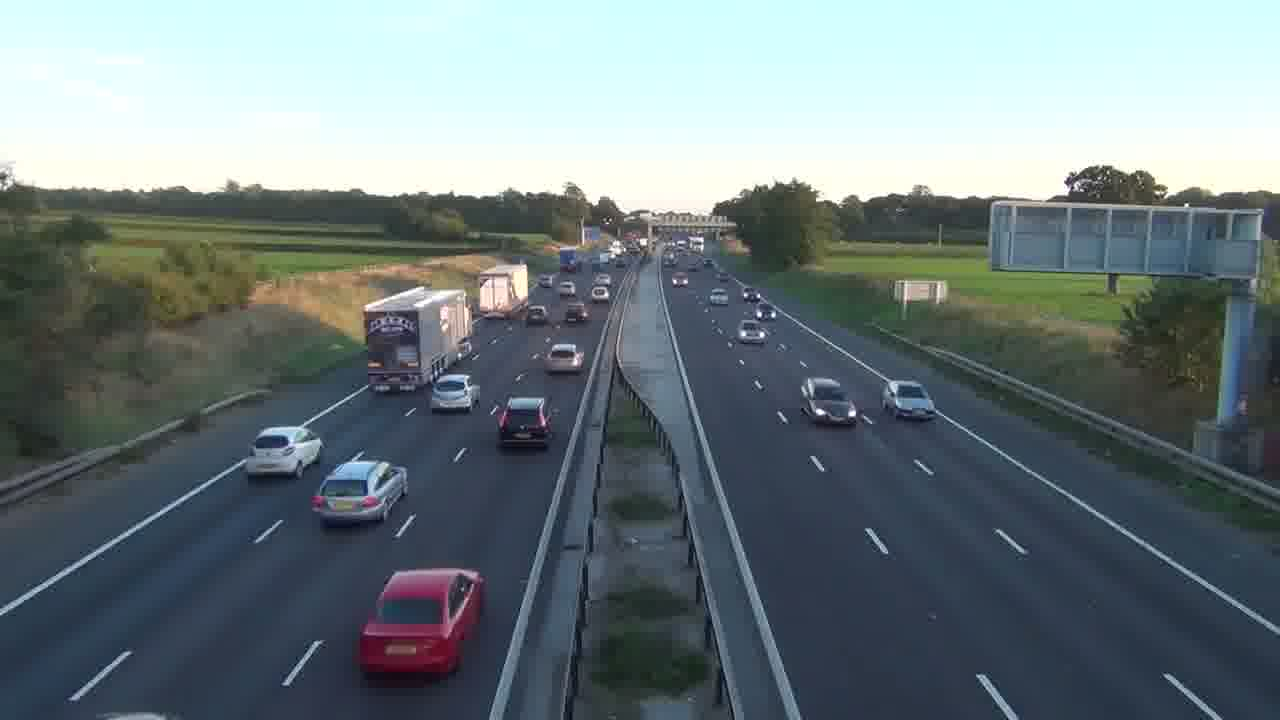car: (356, 566, 485, 679), (309, 458, 409, 529), (246, 425, 323, 479), (493, 395, 553, 450), (799, 376, 859, 427), (880, 379, 937, 421), (429, 373, 479, 414), (544, 341, 584, 374)
truck: (364, 287, 473, 395)
